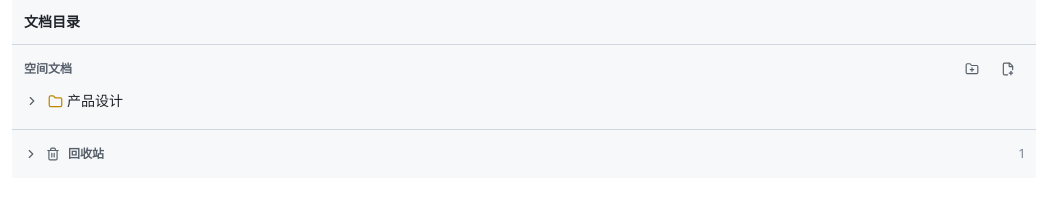
Test: DocumentTree interactions › keeps the trash as a collapsed folder until the user expands it
Check: the text "已删除文档" is not shown
Click the button with aria-label "展开回收站". click: (86, 154)
box: [12,138,1036,170]
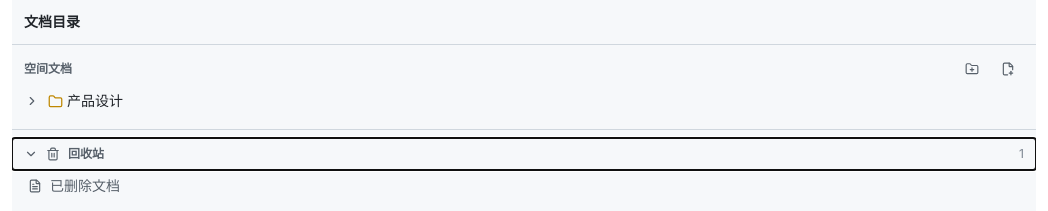
Check: the button with aria-label "收起回收站" is expanded, box [12,138,1036,170]
Check: the text "已删除文档" is shown, box [50,177,120,194]
